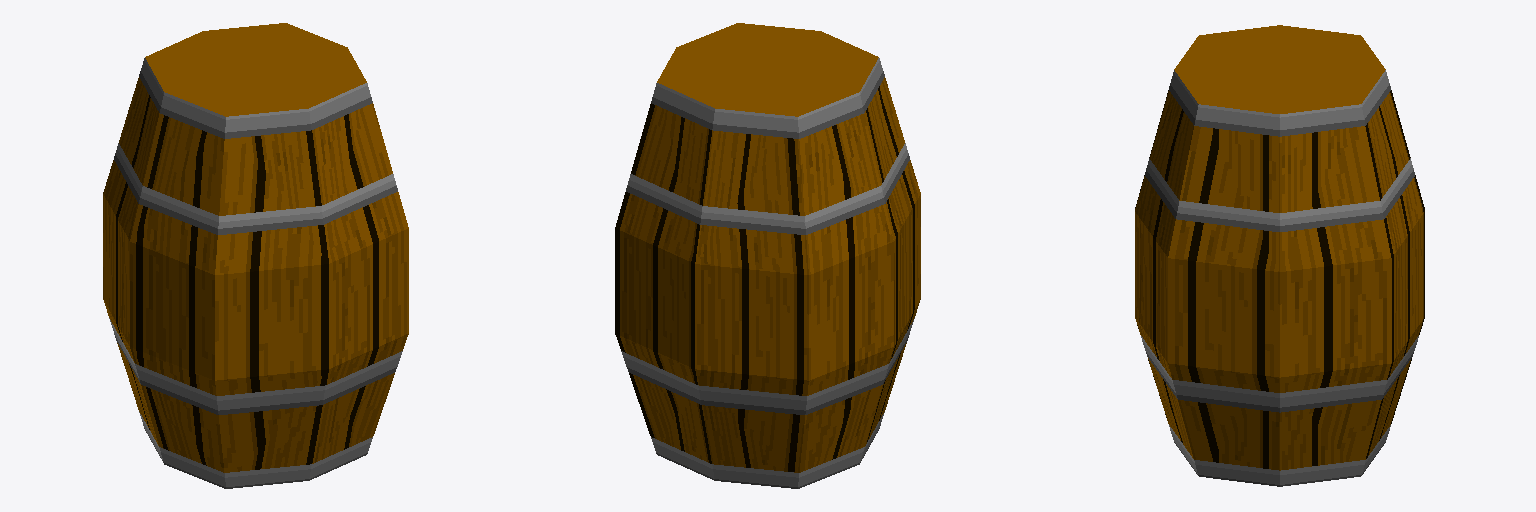
3 views of the same model, side by side, from view 1: azimuth 30°, elevation 25°; view 2: azimuth 150°, elevation 25°; view 3: azimuth 270°, elevation 25° (orthographic).
Visible parts, largest first — view 1: Cube; view 2: Cube; view 3: Cube.
Part boxes in pixels (bbox=[...]): Cube: bbox=[103, 23, 408, 488]; Cube: bbox=[615, 23, 920, 488]; Cube: bbox=[1135, 25, 1424, 486].
Size of the model in its own units: 3.57 by 5.05 by 3.57.
Materials: 1 (1 with a texture image).